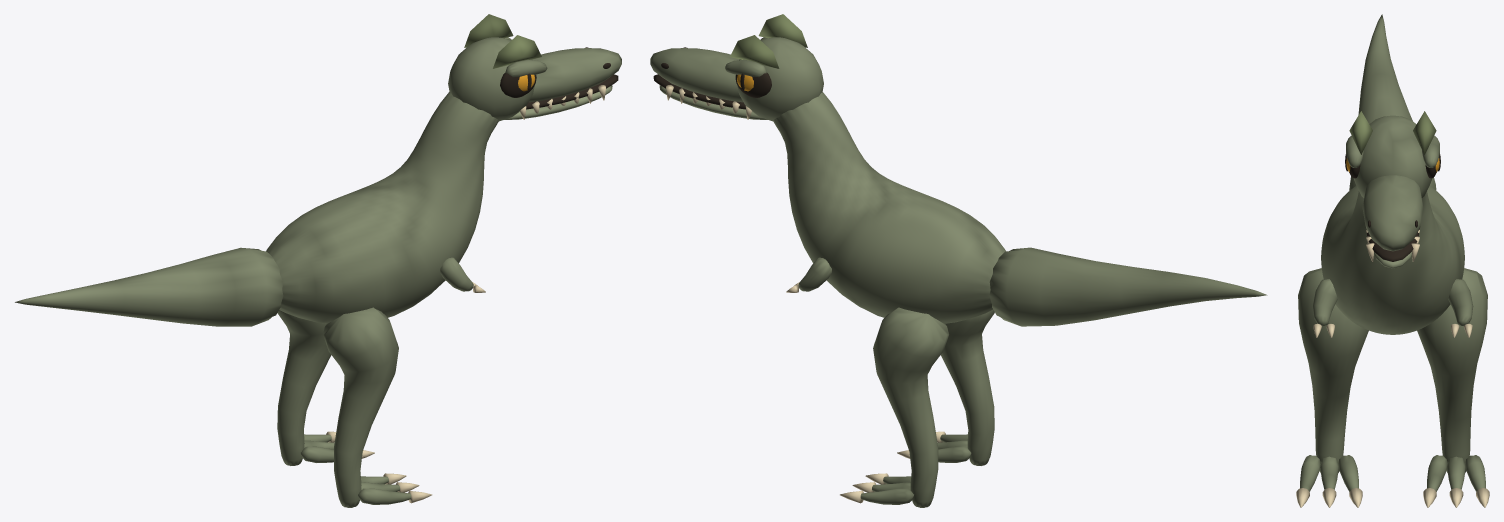
Rendered from rex.glb.
3 views of the same model, side by side, from view 1: azimuth 30°, elevation 25°; view 2: azimuth 150°, elevation 25°; view 3: azimuth 270°, elevation 25° (orthographic). The views are drawn at different scales.
Visible parts, largest first — view 1: Body.006_Painted reptile hide.003, Tail.006_Painted reptile hide.003, Leg1.006_Painted reptile hide.003, Head.006_Painted reptile hide.003, Leg0.006_Painted reptile hide.003, Head.006_Painted keratin.003, Head.006_Deep mouth and pupils.003, Arm1.002_Painted reptile hide.003; view 2: Body.006_Painted reptile hide.003, Tail.006_Painted reptile hide.003, Leg0.006_Painted reptile hide.003, Head.006_Painted reptile hide.003, Leg1.006_Painted reptile hide.003, Head.006_Painted keratin.003, Head.006_Deep mouth and pupils.003, Arm0.002_Painted reptile hide.003; view 3: Body.006_Painted reptile hide.003, Head.006_Painted reptile hide.003, Leg0.006_Painted reptile hide.003, Leg1.006_Painted reptile hide.003, Tail.006_Painted reptile hide.003, Head.006_Painted keratin.003, Arm0.002_Painted reptile hide.003, Arm1.002_Painted reptile hide.003, Head.006_Deep mouth and pupils.003, Leg0.006_Warm ivory claws.003, Leg1.006_Warm ivory claws.003, Head.006_Warm ivory claws.003.
Boxes of the visible parts, <box> form: Body.006_Painted reptile hide.003: <box>266,92,498,323</box>; Tail.006_Painted reptile hide.003: <box>15,247,283,326</box>; Leg1.006_Painted reptile hide.003: <box>323,307,411,507</box>; Head.006_Painted reptile hide.003: <box>448,37,621,121</box>; Leg0.006_Painted reptile hide.003: <box>277,310,334,465</box>; Head.006_Painted keratin.003: <box>464,14,541,68</box>; Head.006_Deep mouth and pupils.003: <box>500,47,618,109</box>; Arm1.002_Painted reptile hide.003: <box>440,257,473,291</box>; Body.006_Painted reptile hide.003: <box>773,92,1005,323</box>; Tail.006_Painted reptile hide.003: <box>989,247,1267,326</box>; Leg0.006_Painted reptile hide.003: <box>860,307,948,507</box>; Head.006_Painted reptile hide.003: <box>650,37,823,121</box>; Leg1.006_Painted reptile hide.003: <box>937,310,994,465</box>; Head.006_Painted keratin.003: <box>730,14,807,68</box>; Head.006_Deep mouth and pupils.003: <box>653,47,771,109</box>; Arm0.002_Painted reptile hide.003: <box>798,257,831,291</box>; Body.006_Painted reptile hide.003: <box>1321,186,1464,334</box>; Head.006_Painted reptile hide.003: <box>1346,115,1439,268</box>; Leg0.006_Painted reptile hide.003: <box>1417,268,1487,491</box>; Leg1.006_Painted reptile hide.003: <box>1298,268,1368,491</box>; Tail.006_Painted reptile hide.003: <box>1349,14,1436,190</box>; Head.006_Painted keratin.003: <box>1349,111,1436,154</box>; Arm0.002_Painted reptile hide.003: <box>1448,279,1473,325</box>; Arm1.002_Painted reptile hide.003: <box>1312,279,1337,325</box>; Head.006_Deep mouth and pupils.003: <box>1345,154,1440,261</box>; Leg0.006_Warm ivory claws.003: <box>1423,488,1489,507</box>; Leg1.006_Warm ivory claws.003: <box>1296,488,1362,507</box>; Head.006_Warm ivory claws.003: <box>1366,229,1419,261</box>.
Size of the model in its own units: 5.49 by 3.58 by 1.35.
